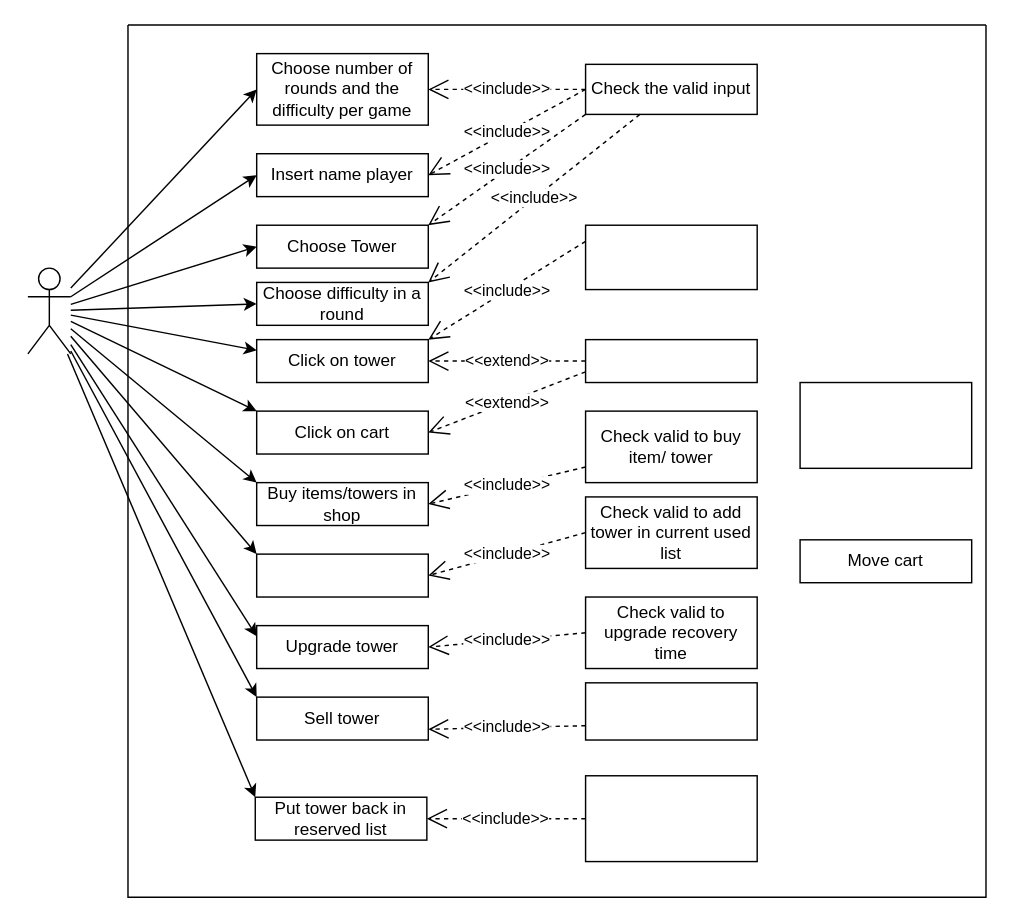
The diagram is 1011 pixels wide and 922 high, and some of its shapes have lost their labels. The centre of each missing label's shape, as x and y in pixels:
"Add resource into cart" belongs at [670,360].
"Add tower in current used list" belongs at [341,575].
"Check valid to put tower back reserved list" belongs at [670,818].
"Check valid to sell tower in inventory" belongs at [670,710].
"Disable/Enable an action after a period of time" belongs at [670,257].
"Player" belongs at [48,310].
"Remove a random tower in current used list" belongs at [885,424].
